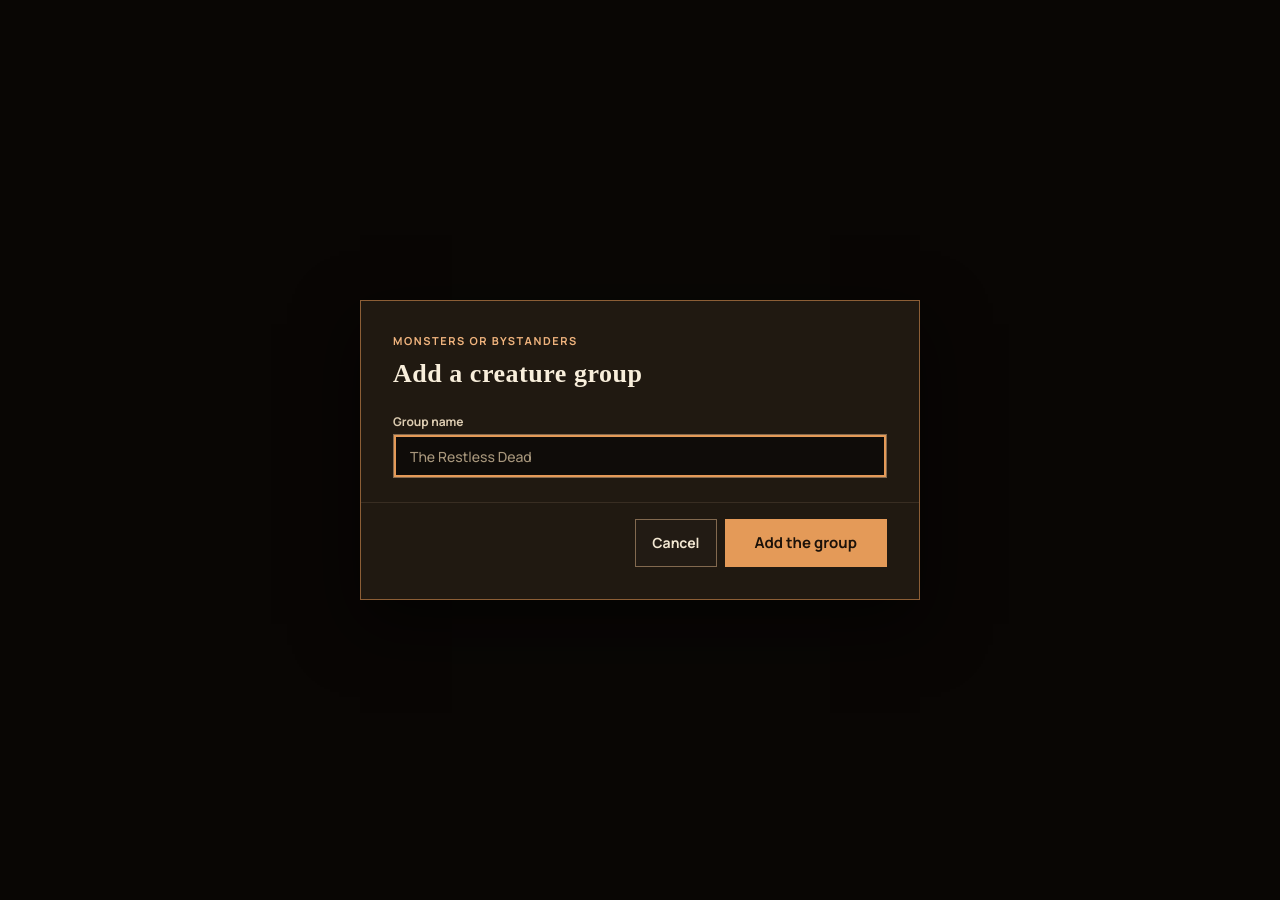
Test: Add a creature group › wants a name
Click the button "Add the group": (806, 543) [724,519,887,567]
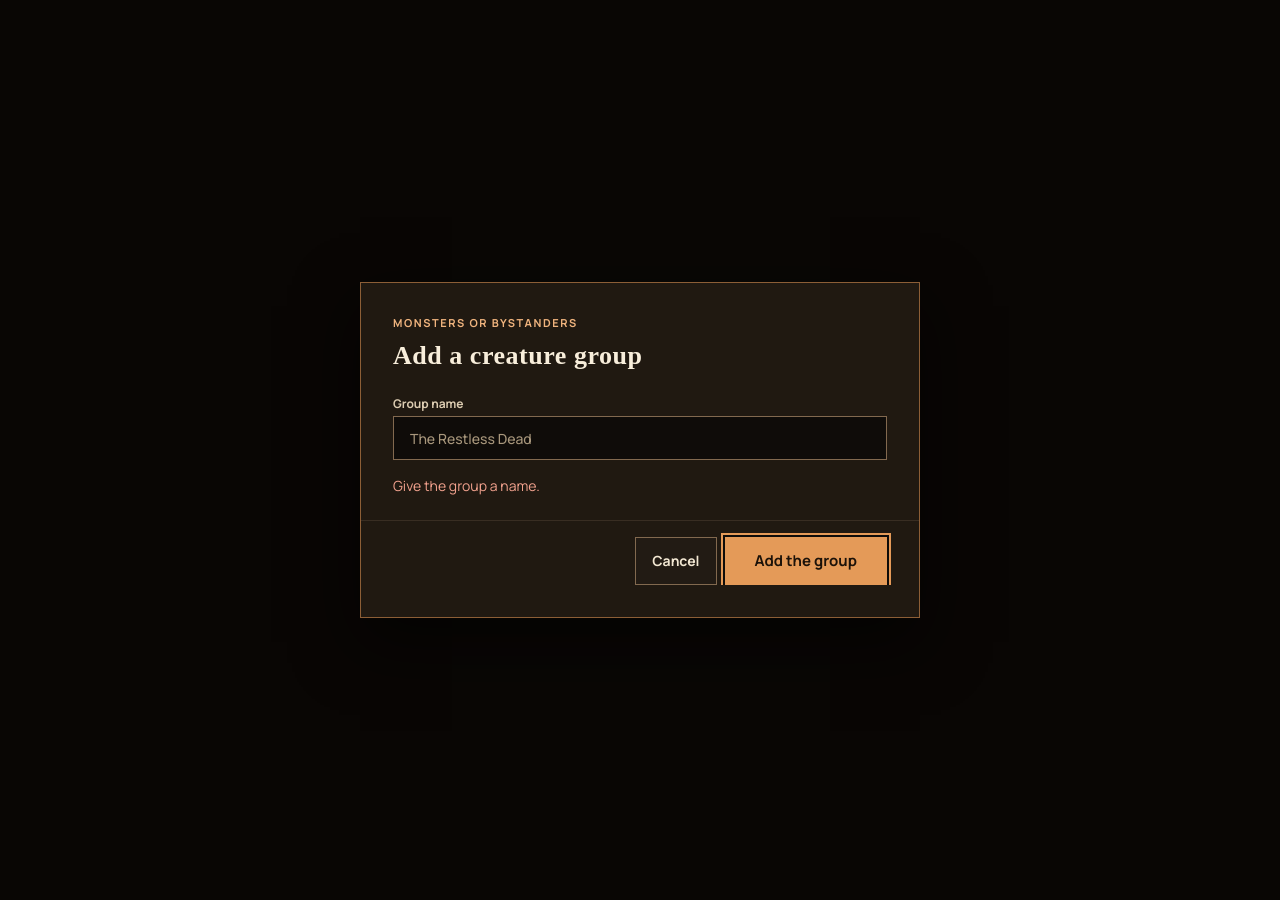
Check: the text "Give the group a name." is shown, box [393,476,540,495]
